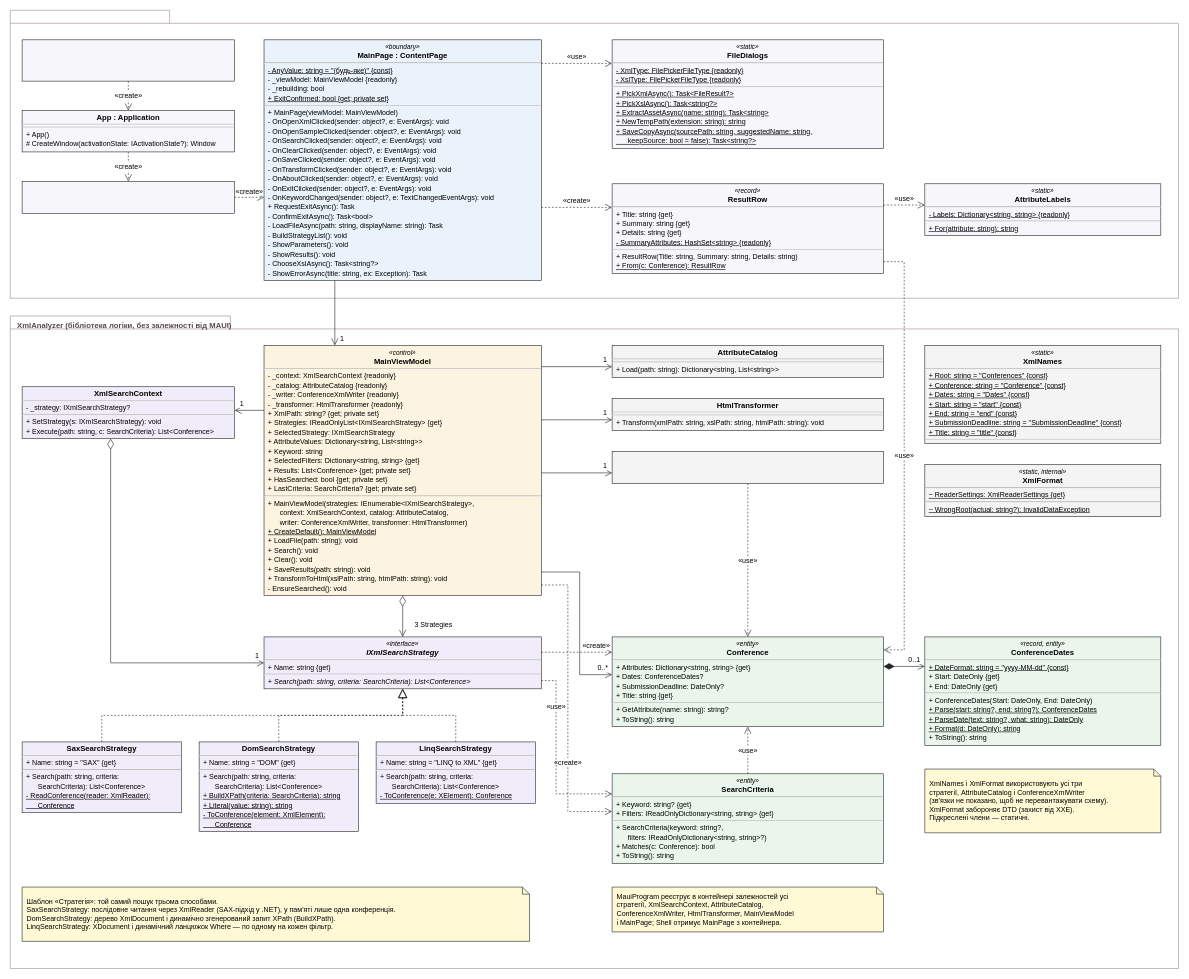
This 1189x979 diagram has some shape labels left out. Each missing label, with the box of its shape:
AppShell : Shell + AppShell(): (22, 181, 235, 213)
ConferenceXmlWriter + Write(items: List<Conference>, path: string): void: (612, 451, 884, 484)
XmlAnalyzerApp (інтерфейс .NET MAUI): (10, 10, 1179, 298)
«static» MauiProgram + CreateMauiApp(): MauiApp: (22, 39, 235, 81)
